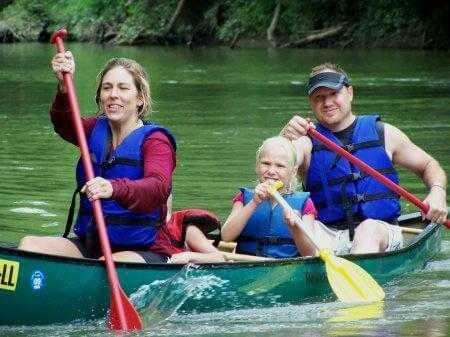kayak: (1, 235, 446, 325)
